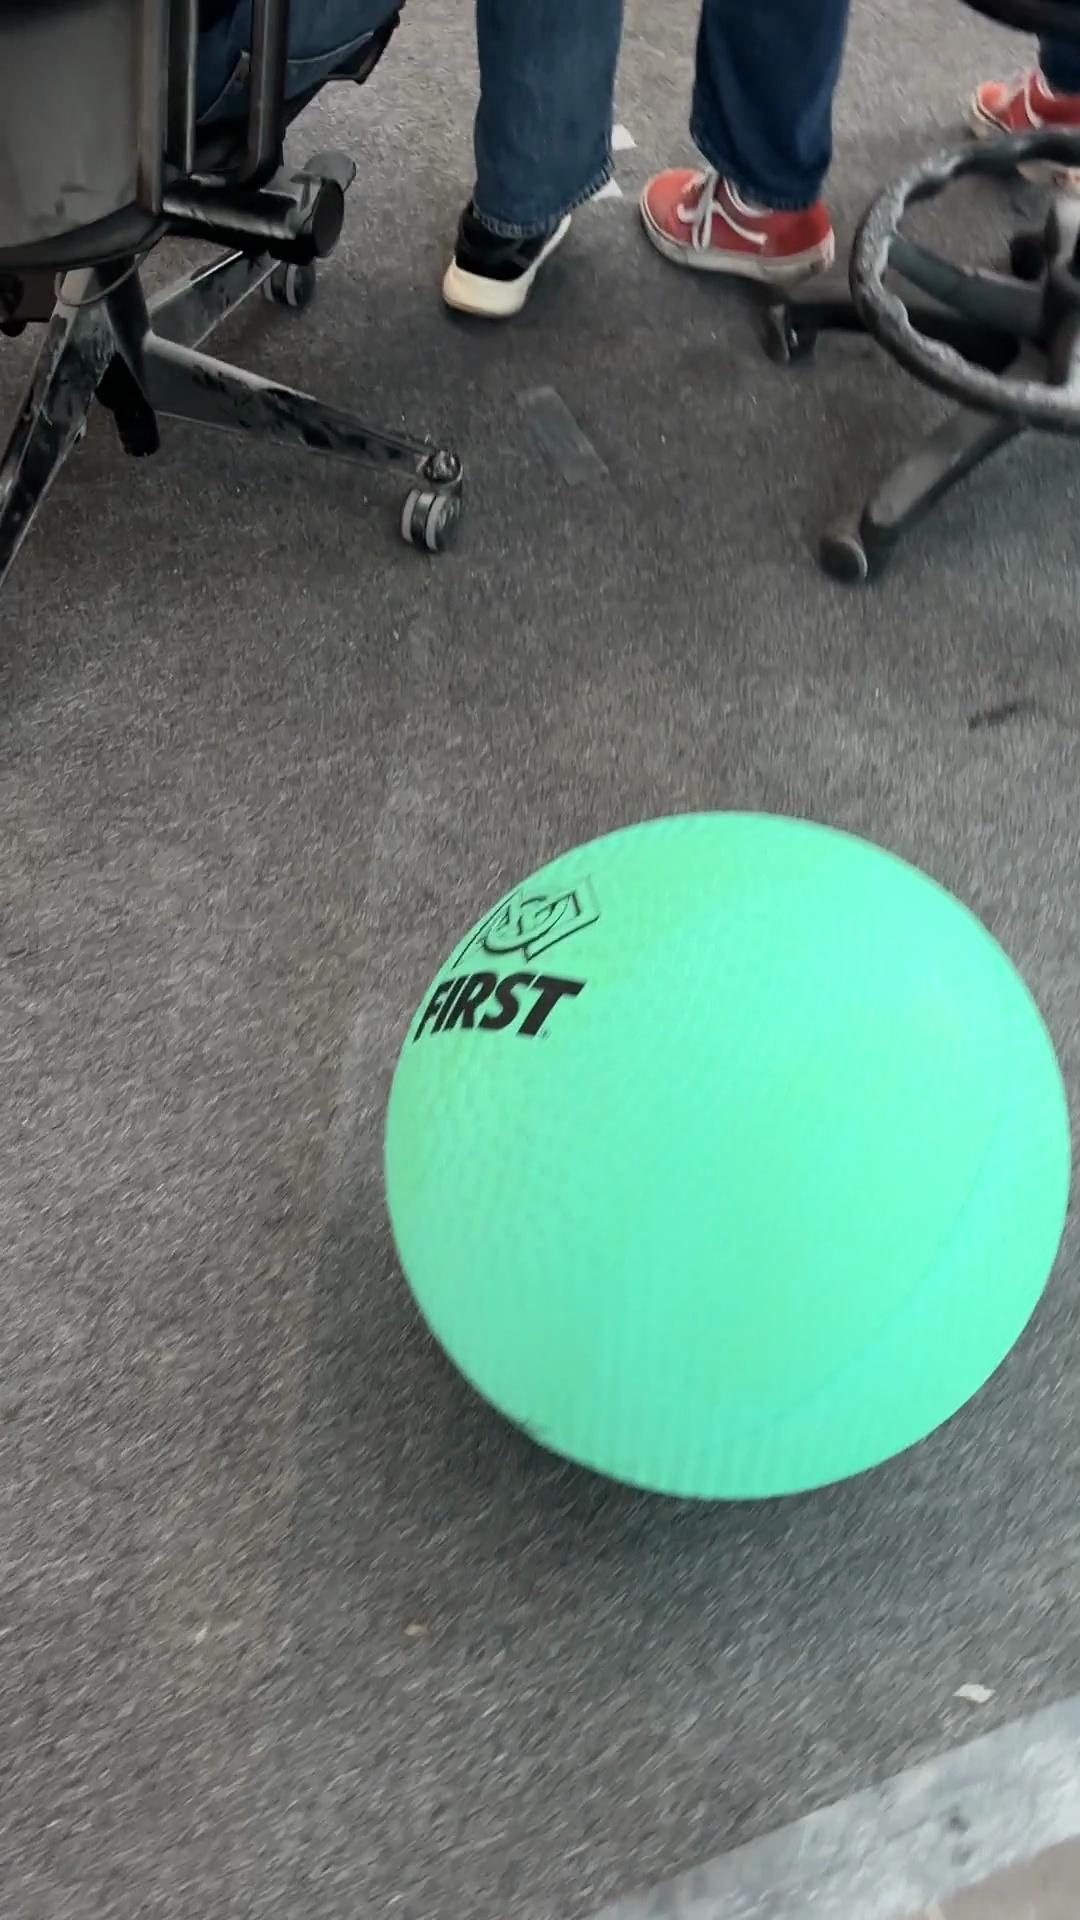ALGAE: (380, 804, 1072, 1503)
